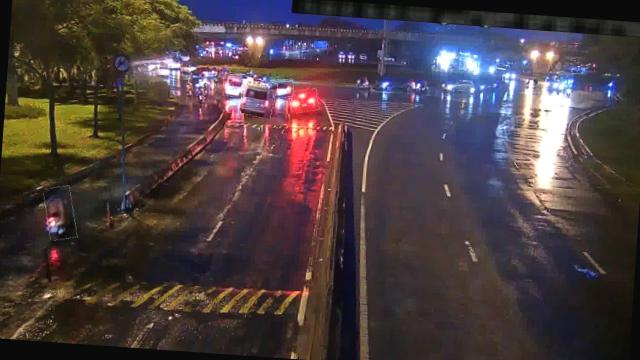Bike: (42, 185, 78, 241)
Bus: (238, 78, 276, 117), (222, 73, 246, 97)
Car: (288, 88, 319, 114), (269, 78, 294, 98)
